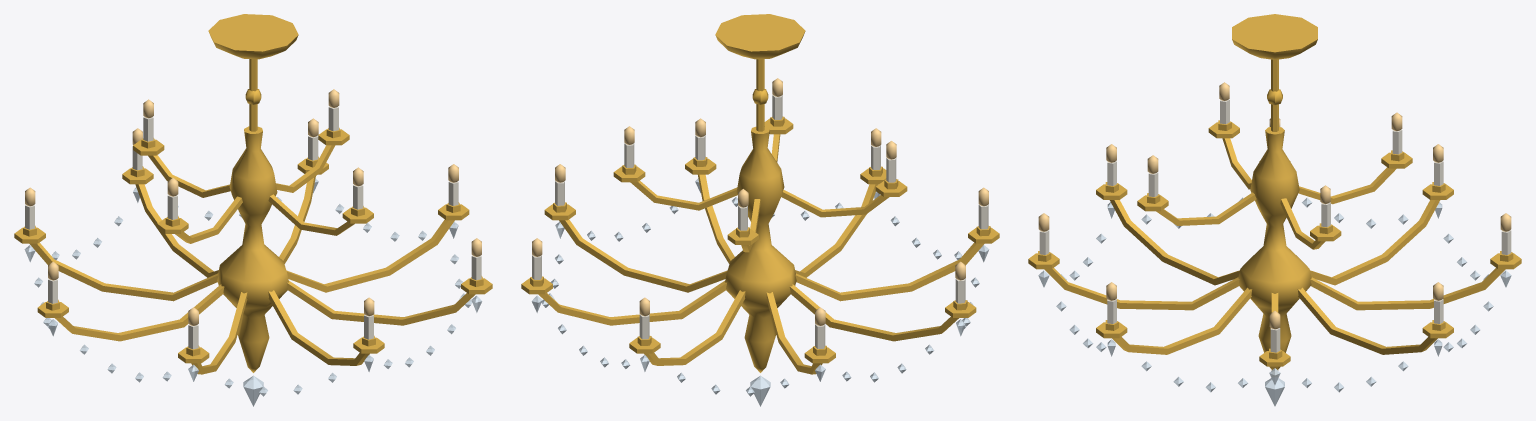
The model's file is Lobby_Chandelier.fbx.
3 renders of one model, left to right at view 1: azimuth 30°, elevation 25°; view 2: azimuth 150°, elevation 25°; view 3: azimuth 270°, elevation 25°, orthographic.
Visible parts, largest first — view 1: Gold, Candles, Crystals, Bulbs; view 2: Gold, Candles, Crystals, Bulbs; view 3: Gold, Crystals, Candles, Bulbs.
Part boxes in pixels (x1,y1,x2,y2): Gold: (14,14,492,374); Candles: (25,106,481,349); Crystals: (24,178,482,406); Bulbs: (25,89,481,325); Gold: (521,14,999,374); Candles: (532,95,988,348); Crystals: (531,178,989,406); Bulbs: (532,78,988,325); Gold: (1028,14,1521,370); Crystals: (1038,197,1511,406); Candles: (1039,99,1511,352); Bulbs: (1038,82,1511,329).
Size of the model in its own units: 593 by 500 by 598.
